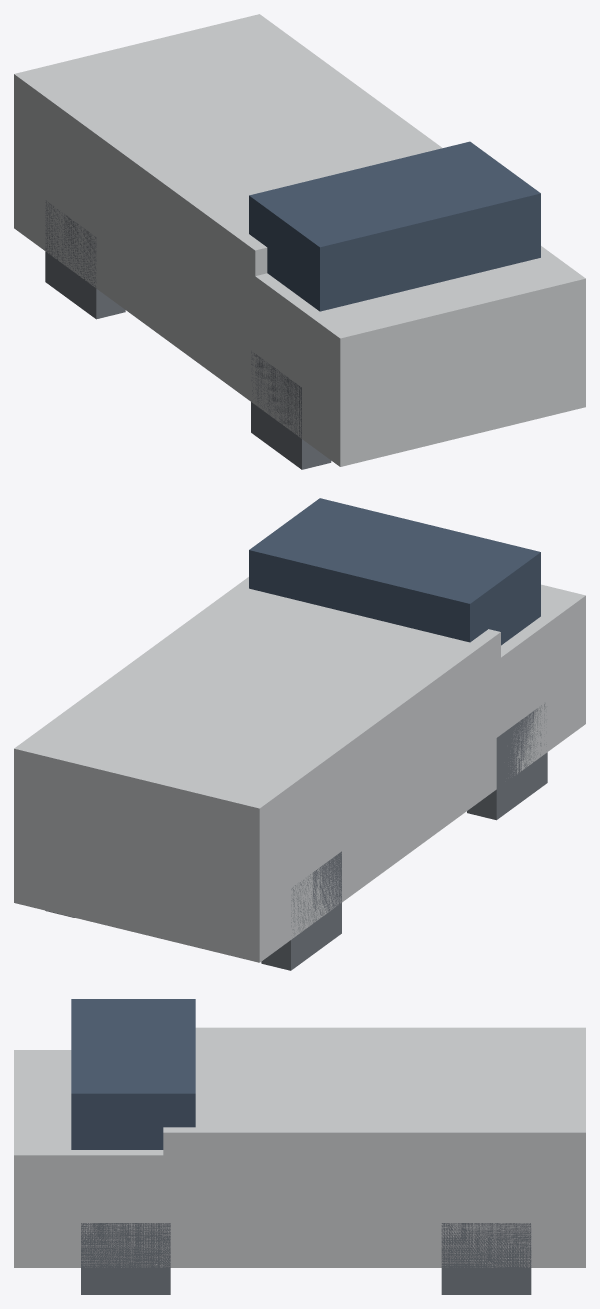
File: ground-vehicle.glb
3 renders of one model, top to bottom at view 1: azimuth 30°, elevation 25°; view 2: azimuth 150°, elevation 25°; view 3: azimuth 270°, elevation 25°, orthographic. The views are drawn at different scales.
Visible parts, largest first — view 1: ground-vehicle; view 2: ground-vehicle; view 3: ground-vehicle.
Boxes of the visible parts, bbox=[...] form: ground-vehicle: bbox=[14, 14, 585, 469]; ground-vehicle: bbox=[14, 498, 585, 970]; ground-vehicle: bbox=[14, 999, 585, 1294].
Bounding box in the file's own units: 1 × 0.87 × 2.3.
